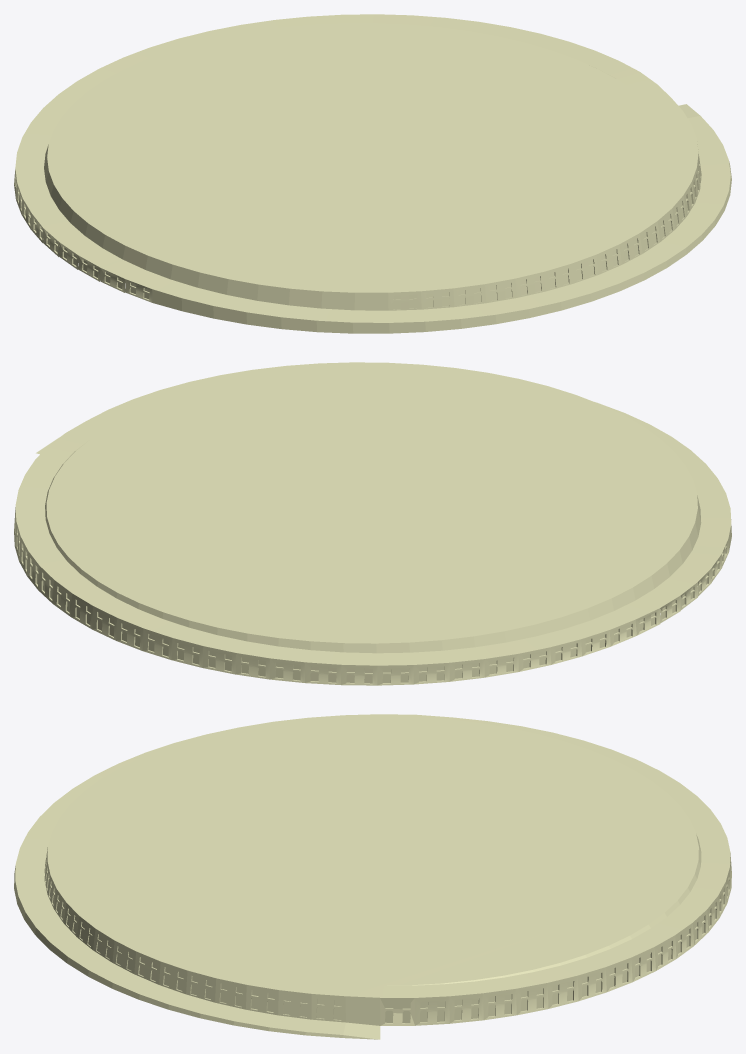
Rendered from 2ndoPiso.fbx.
The picture shows the model from 3 angles, top to bottom: view 1: azimuth 30°, elevation 25°; view 2: azimuth 150°, elevation 25°; view 3: azimuth 270°, elevation 25°; orthographic projection. The views are drawn at different scales.
Parts seen in each view (by area): view 1: piso2; view 2: piso2; view 3: piso2.
Part boxes in pixels (x1,y1,x2,y2): piso2: (14,14,731,333); piso2: (14,362,731,685); piso2: (14,714,731,1039).
Bounding box in the file's own units: 21414 × 894 × 20918.
